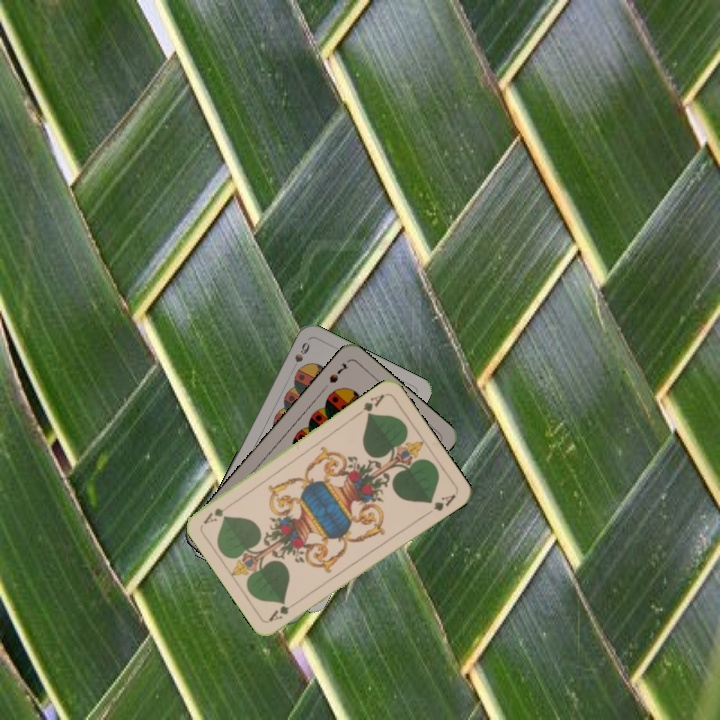GA: (353, 390, 387, 419), (265, 597, 301, 624)
S7: (325, 359, 352, 386)
S9: (287, 338, 313, 374)
